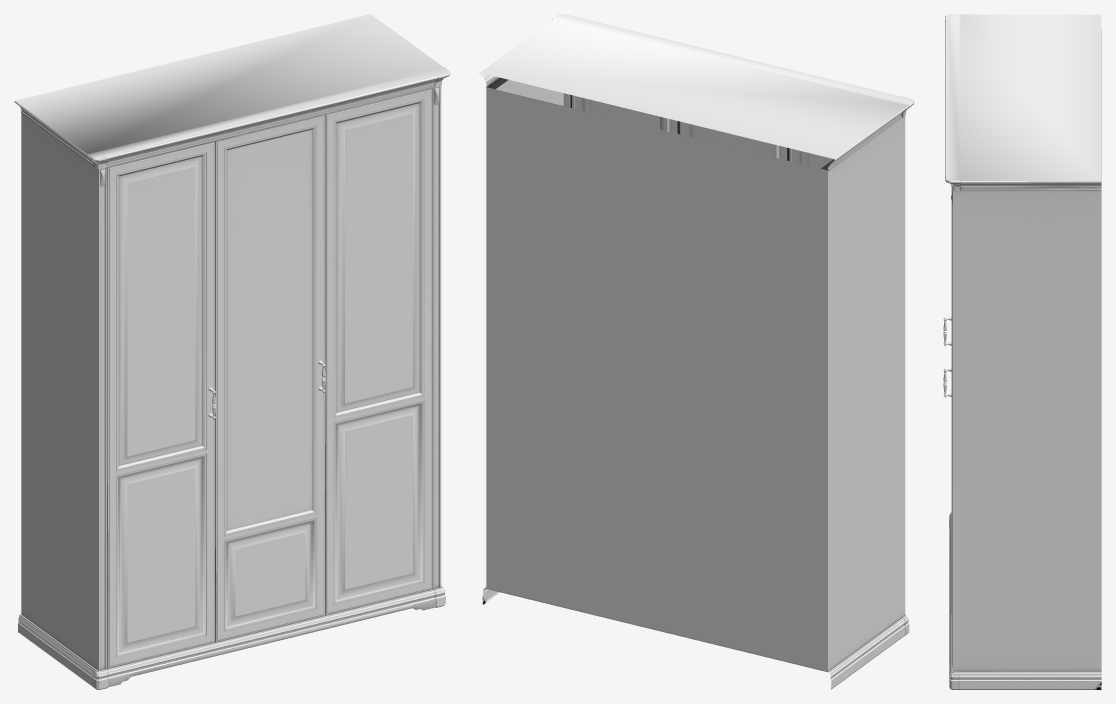
The model's file is cupboard_3.FBX.
3 renders of one model, left to right at view 1: azimuth 30°, elevation 25°; view 2: azimuth 150°, elevation 25°; view 3: azimuth 270°, elevation 25°, orthographic. The views are drawn at different scales.
Parts seen in each view (by area): view 1: Cupboard_3; view 2: Cupboard_3; view 3: Cupboard_3.
Part boxes in pixels (x1,y1,x2,y2): Cupboard_3: (14, 14, 450, 689); Cupboard_3: (479, 14, 914, 689); Cupboard_3: (943, 14, 1101, 689).
Bounding box in the file's own units: 169 × 240 × 67.5.
Materials: 1 (1 with a texture image).
